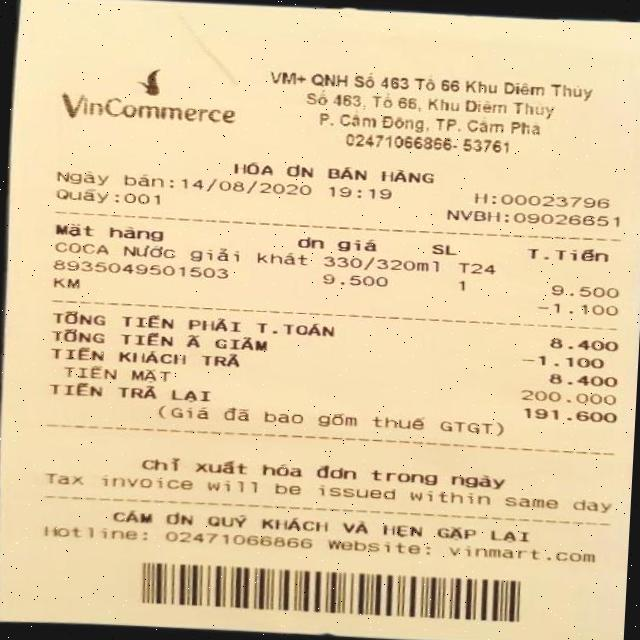Date: (175, 174, 324, 202)
Store_Name: (46, 49, 257, 132)
amount_number: (534, 333, 624, 358)
label_total: (52, 304, 339, 343)
